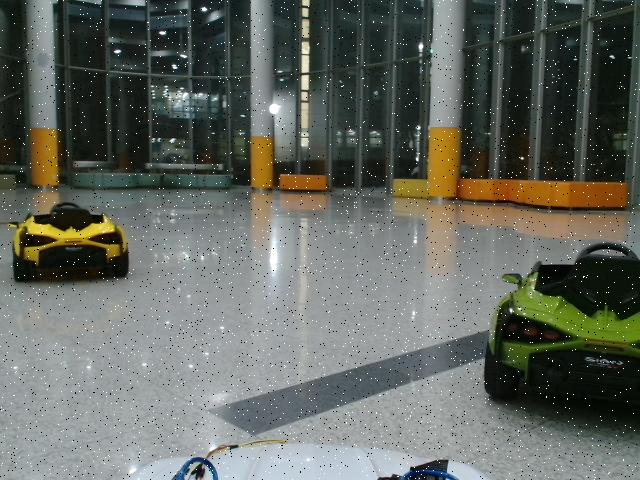car: (484, 243, 640, 407), (1, 203, 130, 283)
